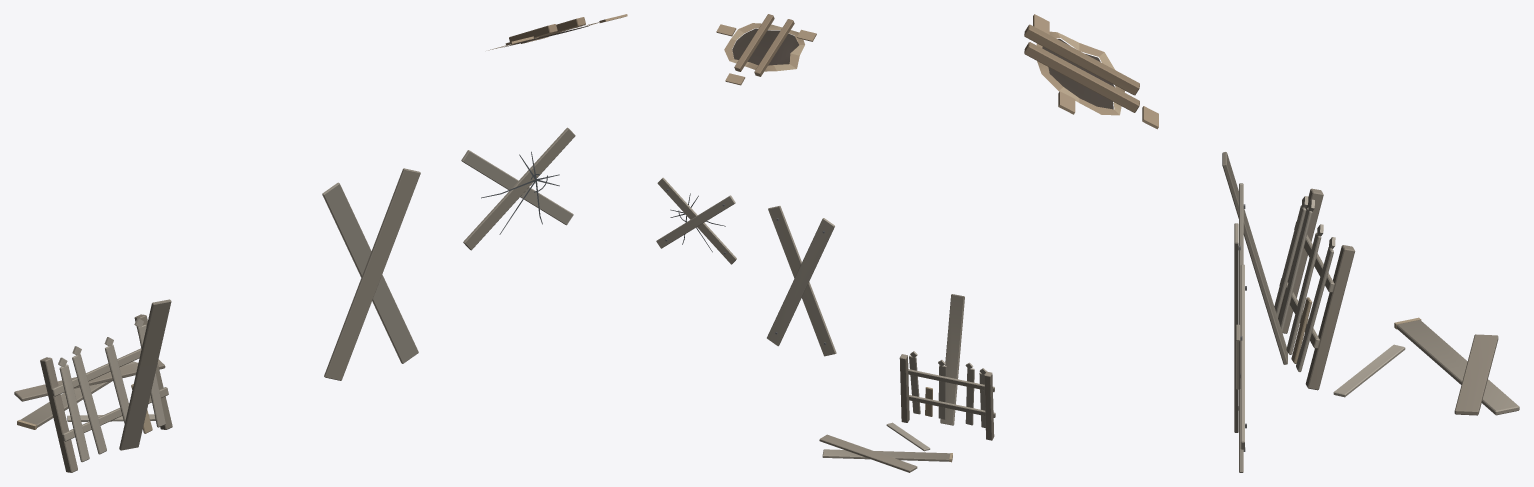
The model's file is house_broken_hut.glb.
3 renders of one model, left to right at view 1: azimuth 30°, elevation 25°; view 2: azimuth 150°, elevation 25°; view 3: azimuth 270°, elevation 25°, orthographic. The views are drawn at different scales.
Size of the model in its own units: 4.6 by 3.74 by 3.1.
